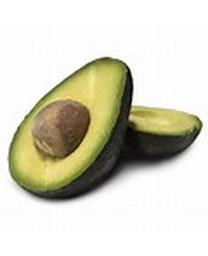avocado: (8, 57, 134, 200), (107, 102, 203, 167)
